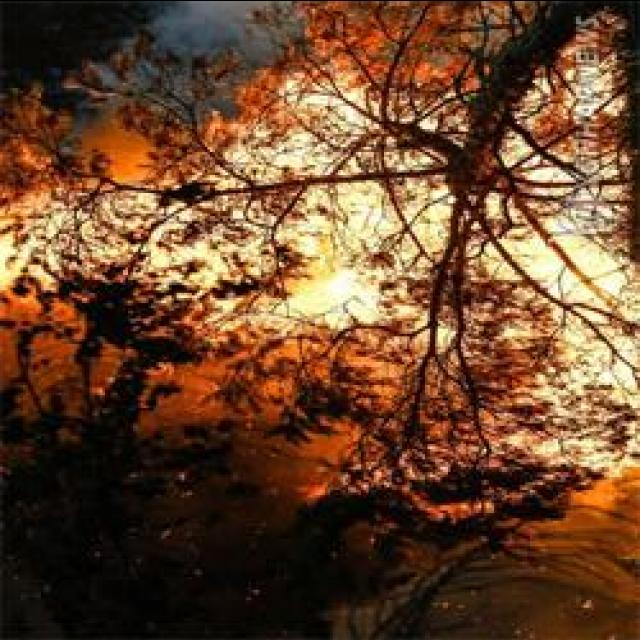smoke: (147, 0, 250, 58)
